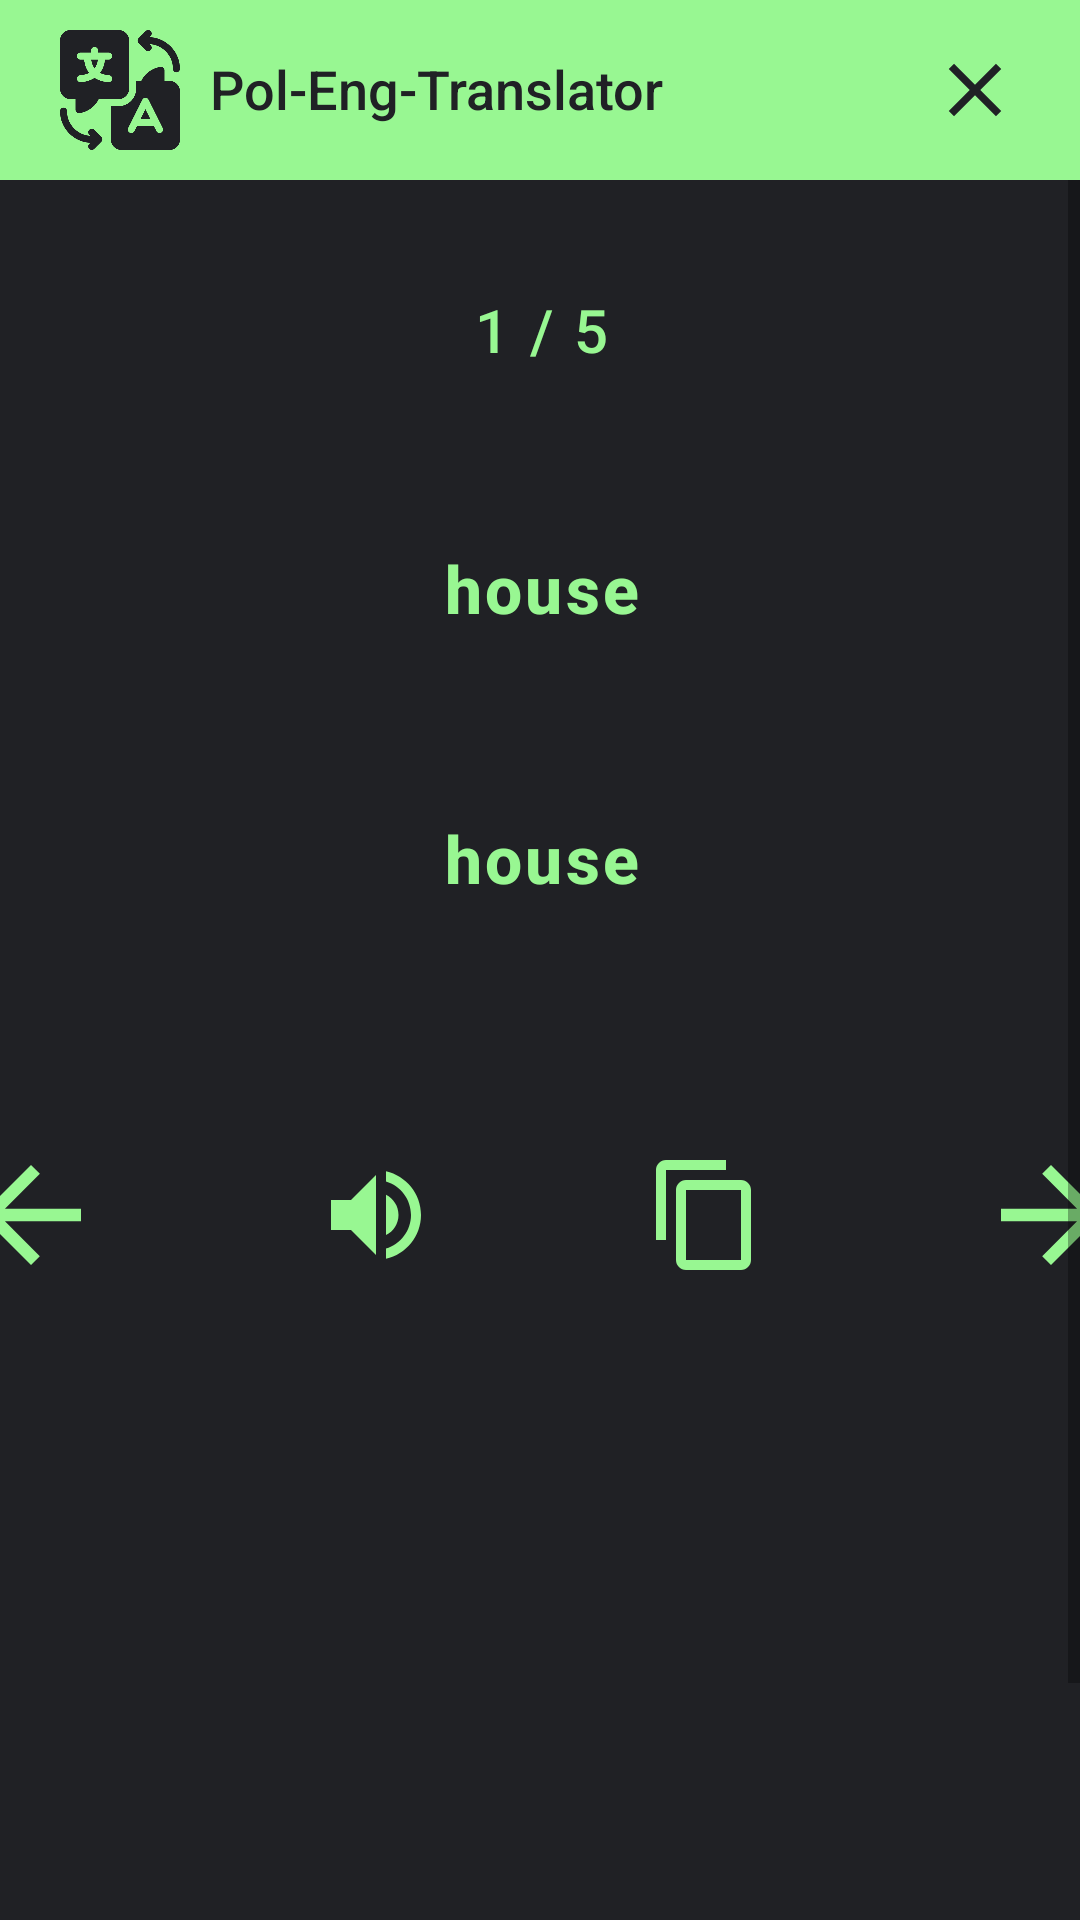

Locate icon controls on the screen. Image size 1080px×1920px, boxes as box=[x1, y1, x2, y2].
clear: box=[949, 64, 1001, 116]
translation: box=[60, 30, 180, 150]
volume up: box=[331, 1171, 421, 1259]
